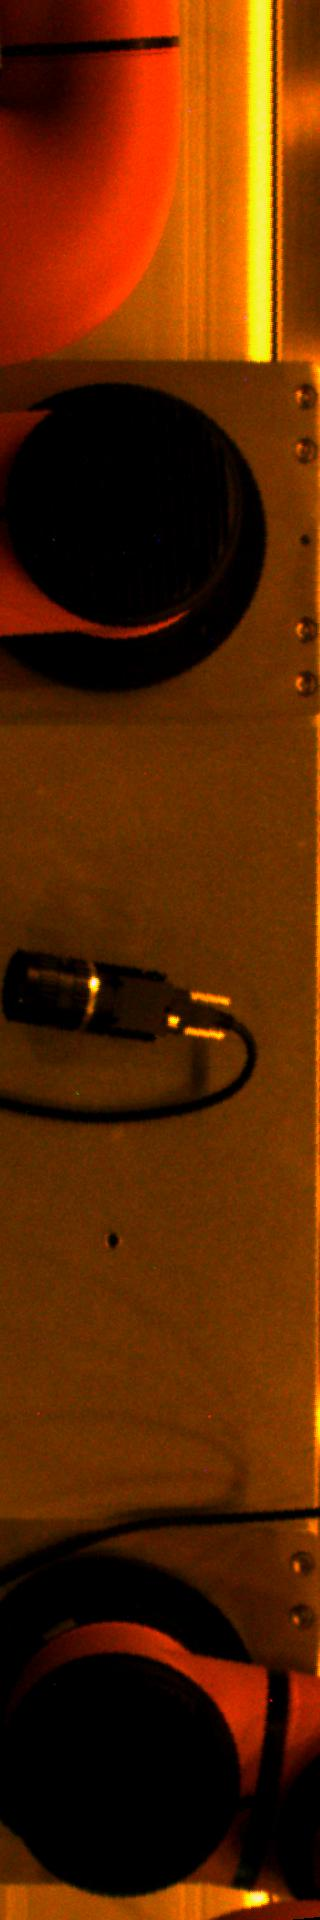keyPoint_2: (97, 1224, 128, 1255)
